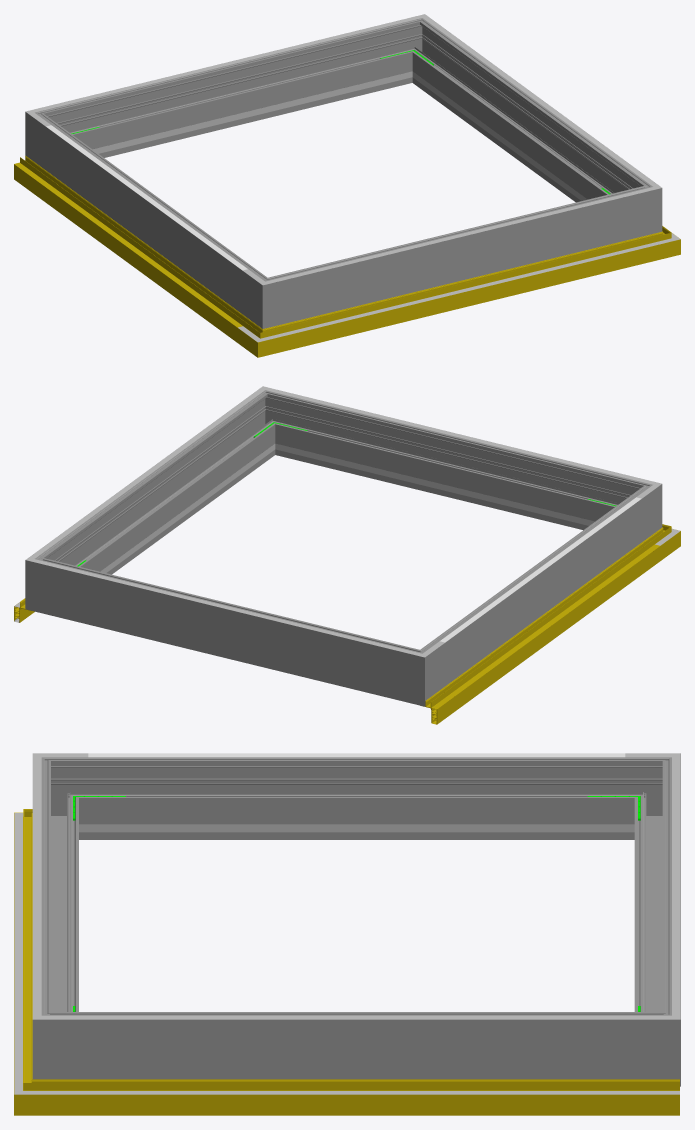
3 views of the same model, one above another, from view 1: azimuth 30°, elevation 25°; view 2: azimuth 150°, elevation 25°; view 3: azimuth 270°, elevation 25° (orthographic). The views are drawn at different scales.
Visible parts, largest first — view 1: 3DGeom-276, 3DGeom-298, 3DGeom-297, 3DGeom-268, 3DGeom-90, 3DGeom-85, 3DGeom-270, 3DGeom-290, 3DGeom-244, 3DGeom-284, 3DGeom-278, 3DGeom-105 (+8 smaller); view 2: 3DGeom-298, 3DGeom-276, 3DGeom-297, 3DGeom-268, 3DGeom-85, 3DGeom-278, 3DGeom-284, 3DGeom-239, 3DGeom-290, 3DGeom-270, 3DGeom-105, 3DGeom-304 (+5 smaller); view 3: 3DGeom-268, 3DGeom-297, 3DGeom-97, 3DGeom-276, 3DGeom-298, 3DGeom-232, 3DGeom-284, 3DGeom-290, 3DGeom-278, 3DGeom-303, 3DGeom-313, 3DGeom-270 (+6 smaller).
Part boxes in pixels (x1=…): 3DGeom-276: x1=64, y1=25, x2=406, y2=157; 3DGeom-298: x1=291, y1=191, x2=627, y2=320; 3DGeom-297: x1=416, y1=29, x2=639, y2=202; 3DGeom-268: x1=45, y1=124, x2=253, y2=313; 3DGeom-90: x1=286, y1=237, x2=645, y2=349; 3DGeom-85: x1=14, y1=156, x2=248, y2=342; 3DGeom-270: x1=242, y1=268, x2=297, y2=328; 3DGeom-290: x1=620, y1=174, x2=662, y2=239; 3DGeom-244: x1=105, y1=80, x2=378, y2=151; 3DGeom-284: x1=393, y1=18, x2=440, y2=84; 3DGeom-278: x1=25, y1=105, x2=77, y2=169; 3DGeom-105: x1=14, y1=162, x2=242, y2=327; 3DGeom-298: x1=281, y1=397, x2=623, y2=530; 3DGeom-276: x1=60, y1=564, x2=395, y2=697; 3DGeom-297: x1=50, y1=402, x2=271, y2=574; 3DGeom-268: x1=434, y1=496, x2=641, y2=685; 3DGeom-85: x1=420, y1=537, x2=660, y2=724; 3DGeom-278: x1=389, y1=640, x2=445, y2=706; 3DGeom-284: x1=25, y1=546, x2=66, y2=617; 3DGeom-239: x1=309, y1=452, x2=581, y2=523; 3DGeom-290: x1=248, y1=388, x2=294, y2=456; 3DGeom-270: x1=610, y1=477, x2=662, y2=541; 3DGeom-105: x1=431, y1=544, x2=659, y2=710; 3DGeom-304: x1=61, y1=566, x2=392, y2=648; 3DGeom-268: x1=88, y1=757, x2=625, y2=839; 3DGeom-297: x1=88, y1=1012, x2=625, y2=1079; 3DGeom-97: x1=69, y1=1079, x2=679, y2=1115; 3DGeom-276: x1=634, y1=777, x2=680, y2=1011; 3DGeom-298: x1=41, y1=777, x2=78, y2=1011; 3DGeom-232: x1=132, y1=824, x2=580, y2=832; 3DGeom-284: x1=625, y1=996, x2=680, y2=1086; 3DGeom-290: x1=32, y1=996, x2=87, y2=1079; 3DGeom-278: x1=625, y1=753, x2=680, y2=839; 3DGeom-303: x1=88, y1=1015, x2=625, y2=1019; 3DGeom-313: x1=88, y1=753, x2=625, y2=757; 3DGeom-270: x1=41, y1=757, x2=87, y2=839.
Size of the model in its own units: 1.83 by 0.2667 by 1.83.
